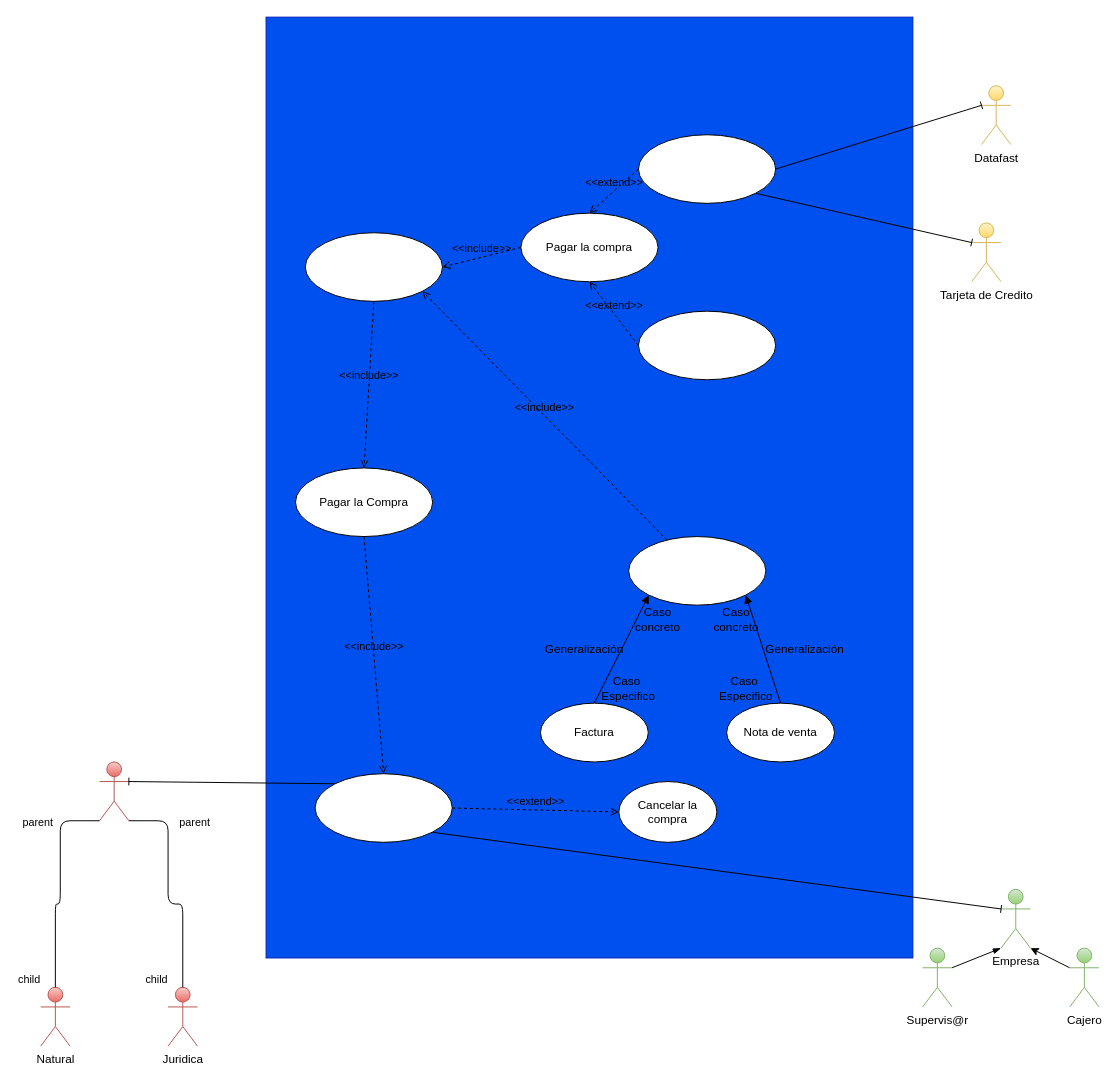
Image size: 1118x1084. Some labels were removed from this diagram. The box of each missing label's shape, as (x1, y1, x2, y2) in pixels:
Cliente: (98, 761, 129, 821)
Comprar productos: (314, 773, 452, 842)
Comprobante: (628, 536, 766, 605)
Facturar la compra: (304, 232, 442, 301)
Pagar con tarjeta de credito: (637, 134, 776, 203)
Pagar en efectivo: (637, 310, 776, 380)
